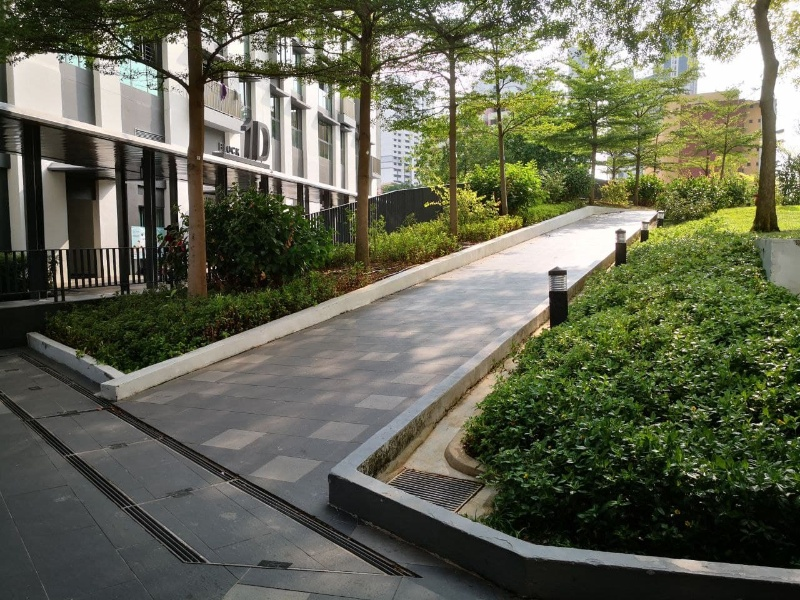slope: (122, 202, 647, 399)
